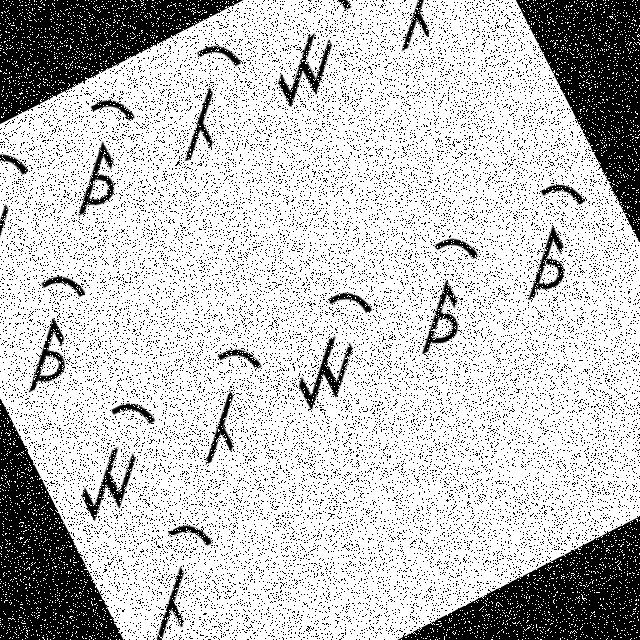bay: (160, 328, 301, 475), (106, 504, 251, 639), (141, 33, 276, 171), (353, 0, 493, 57)
cay: (480, 162, 628, 314), (372, 216, 519, 366), (31, 83, 170, 224), (0, 257, 120, 395)
may: (39, 378, 193, 530), (262, 276, 408, 420), (242, 0, 389, 118), (0, 138, 65, 285)
